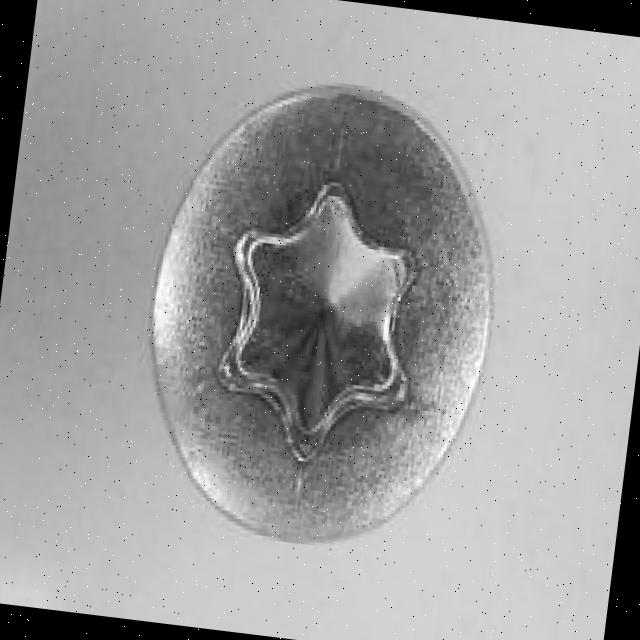Torx: (124, 66, 516, 562)
